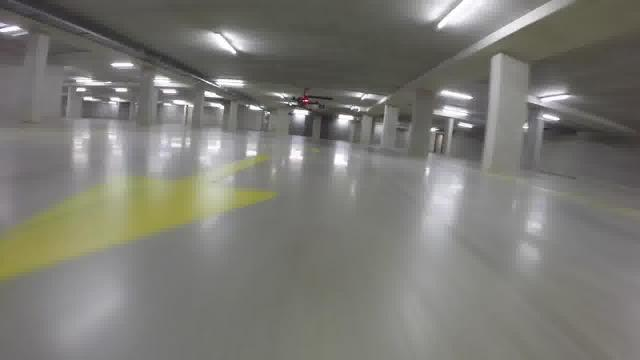drone: (255, 78, 347, 132)
